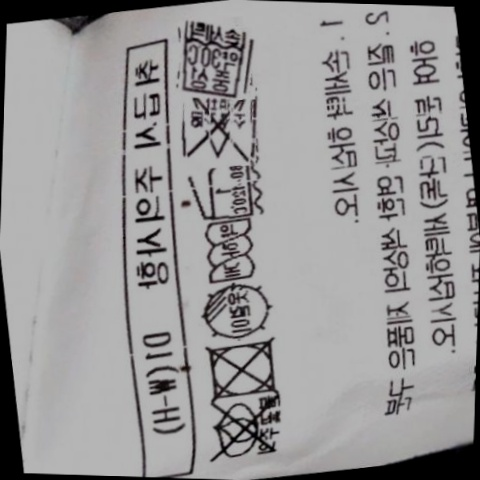DN_tumble_dry: (201, 335, 287, 402)
hand_wash: (175, 23, 255, 95)
iron_low: (191, 161, 259, 223)
line_dry_in_shade: (196, 282, 277, 340)
wring: (203, 218, 260, 286)
